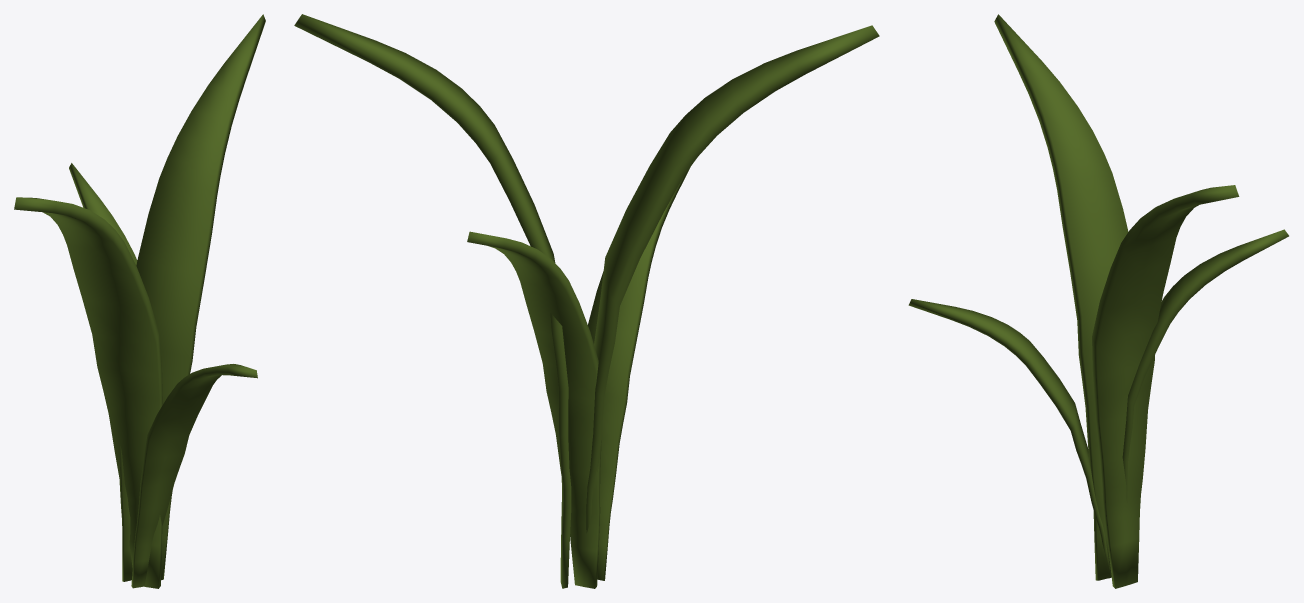
Rendered from HappyPlant.fbx.
3 views of the same model, side by side, from view 1: azimuth 30°, elevation 25°; view 2: azimuth 150°, elevation 25°; view 3: azimuth 270°, elevation 25° (orthographic). The views are drawn at different scales.
Visible parts, largest first — view 1: PlantHappy; view 2: PlantHappy; view 3: PlantHappy.
Part boxes in pixels (x1=…): PlantHappy: x1=14, y1=14, x2=265, y2=588; PlantHappy: x1=294, y1=14, x2=879, y2=588; PlantHappy: x1=908, y1=14, x2=1288, y2=588.
Bounding box in the file's own units: 66.81 × 82.23 × 58.96.
